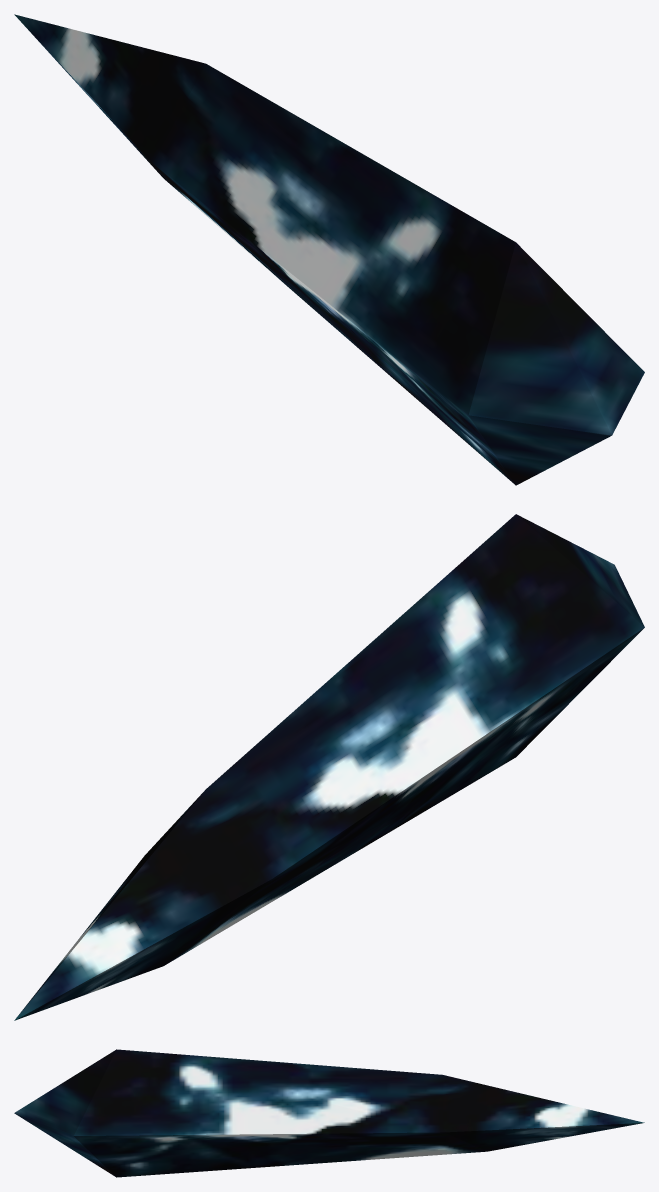
Rendered from blizzard.glb.
3 views of the same model, one above another, from view 1: azimuth 30°, elevation 25°; view 2: azimuth 150°, elevation 25°; view 3: azimuth 270°, elevation 25° (orthographic). The views are drawn at different scales.
Parts seen in each view (by area): view 1: model_blizzard; view 2: model_blizzard; view 3: model_blizzard.
Part boxes in pixels (x1=…): model_blizzard: x1=14, y1=14, x2=644, y2=485; model_blizzard: x1=14, y1=514, x2=644, y2=1020; model_blizzard: x1=14, y1=1049, x2=644, y2=1177.
Size of the model in its own units: 0.3296 by 0.4344 by 1.94.
Materials: 1 (1 with a texture image).
